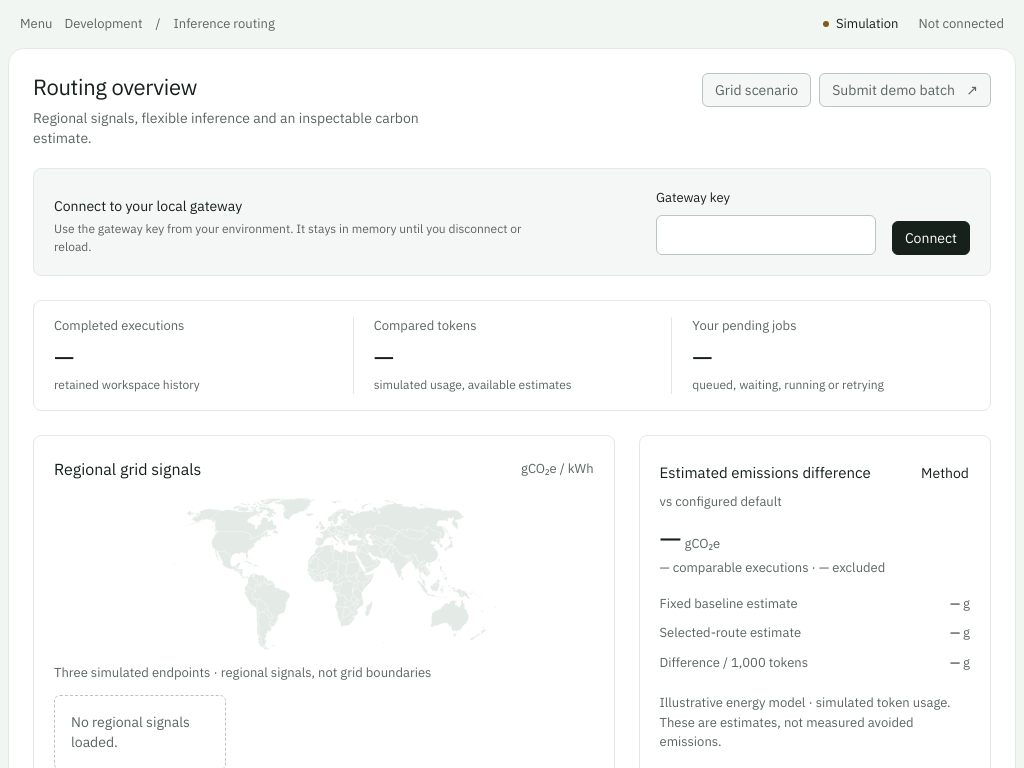
dashboard › uses the separate operator key for scenario changes
The width and height of the screenshot is (1024, 768).
Type "test-client-key" into the password field labelled "Gateway key".
click(766, 235); type("test-client-key")  # box 656,215 -> 876,255
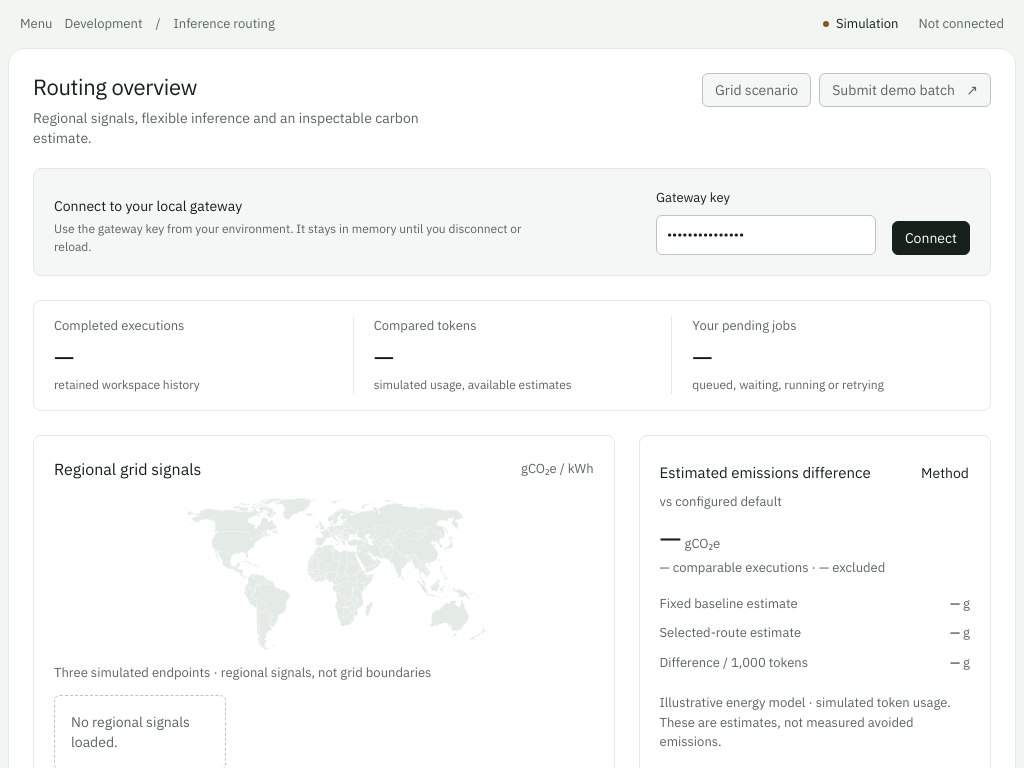
Click the button "Connect".
click(931, 238)  # box 892,221 -> 970,255
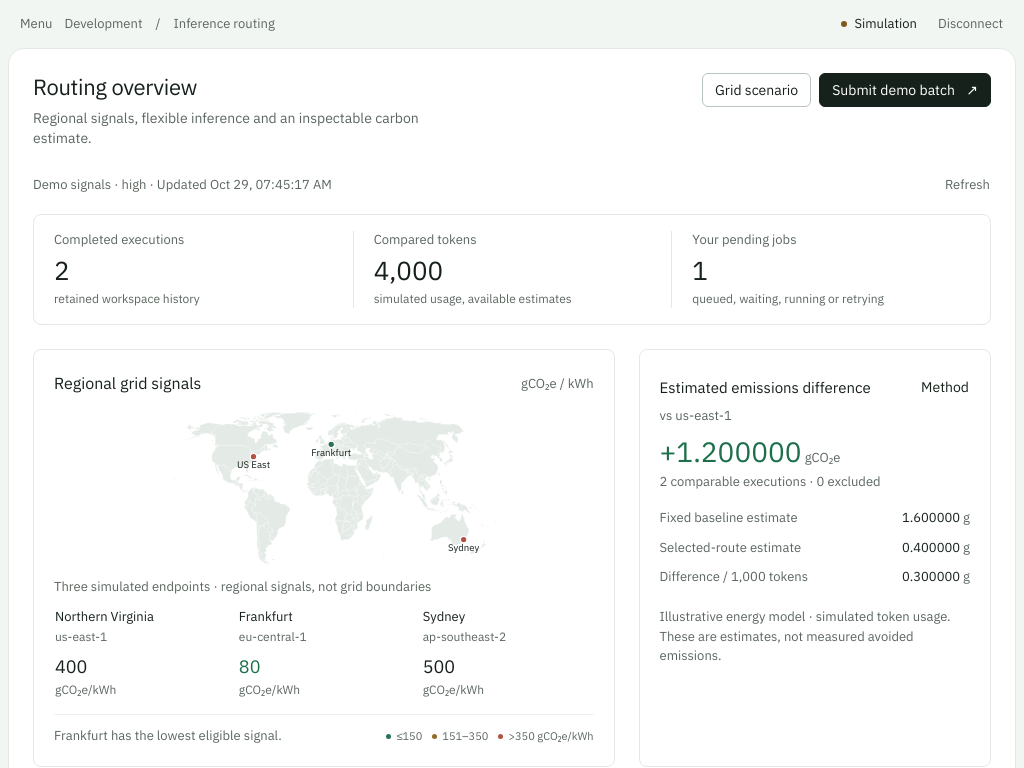
Check: the button "Disconnect" is shown, box 937,7 -> 1004,41
Check: the text "+1.200000" is shown, box 660,433 -> 802,470
Click the button "Grid scenario".
click(757, 90)  # box 702,73 -> 811,107
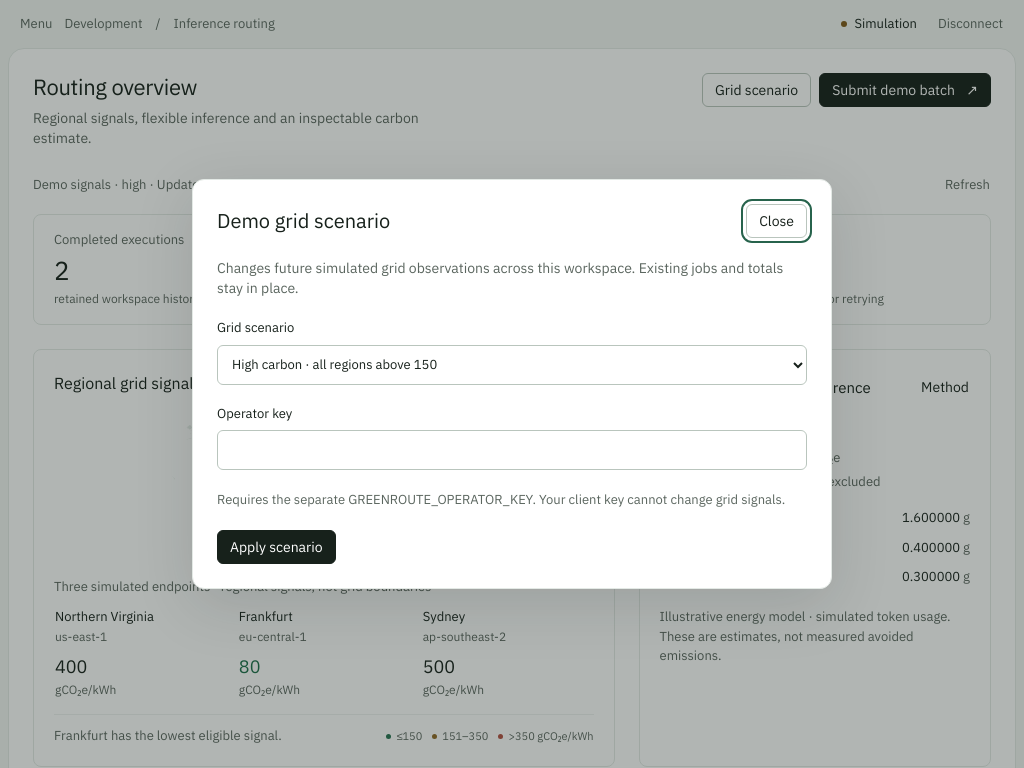
Type "operator-only-key" into the password field labelled "Operator key".
click(512, 450); type("operator-only-key")  # box 217,430 -> 807,470
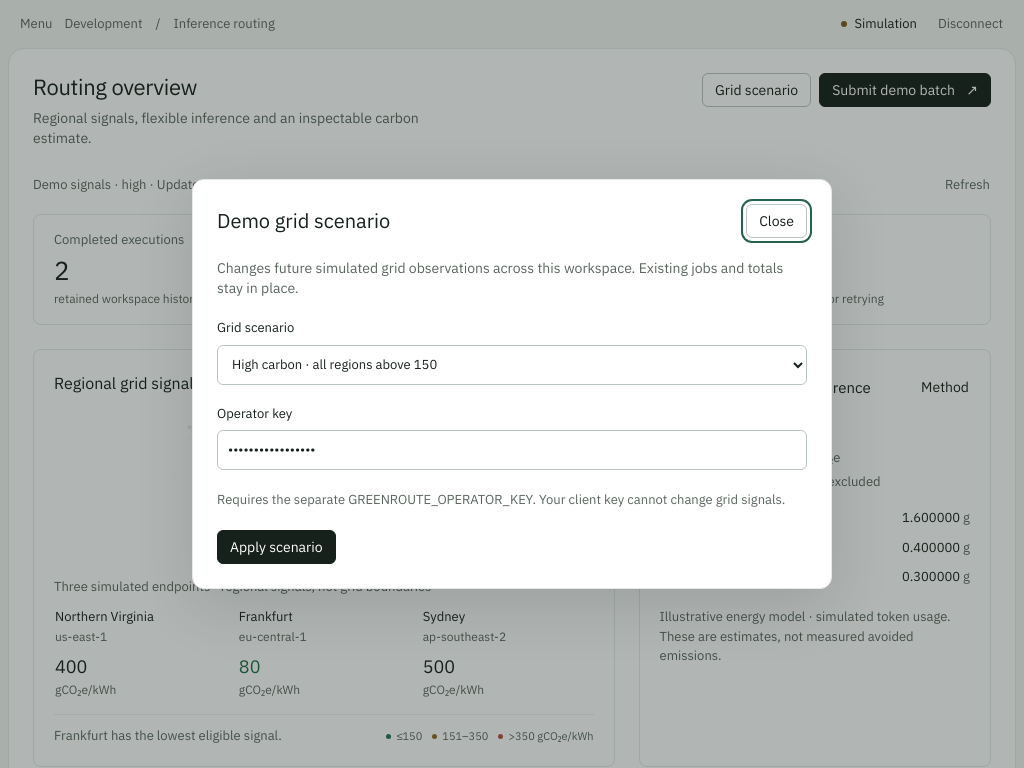
Select "Clean Frankfurt · 80 gCO₂e/kWh" in the dropdown labelled "Grid scenario" at [512, 364], box 217,344 -> 807,384
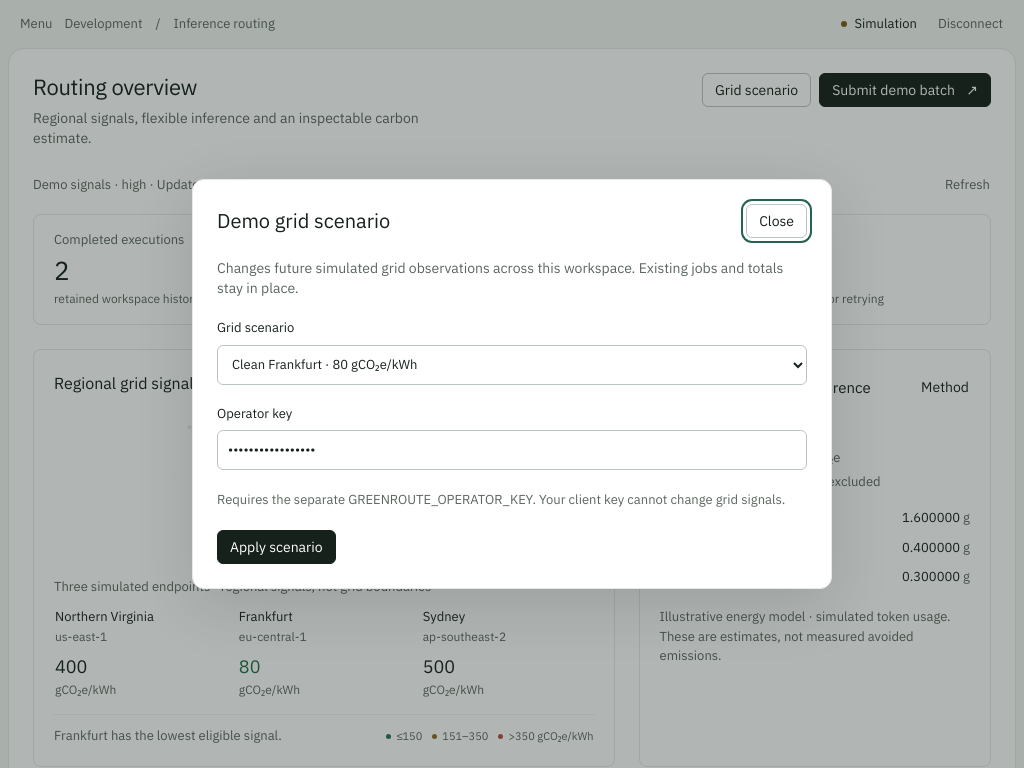
Click the button "Apply scenario".
click(276, 547)  # box 217,530 -> 336,564
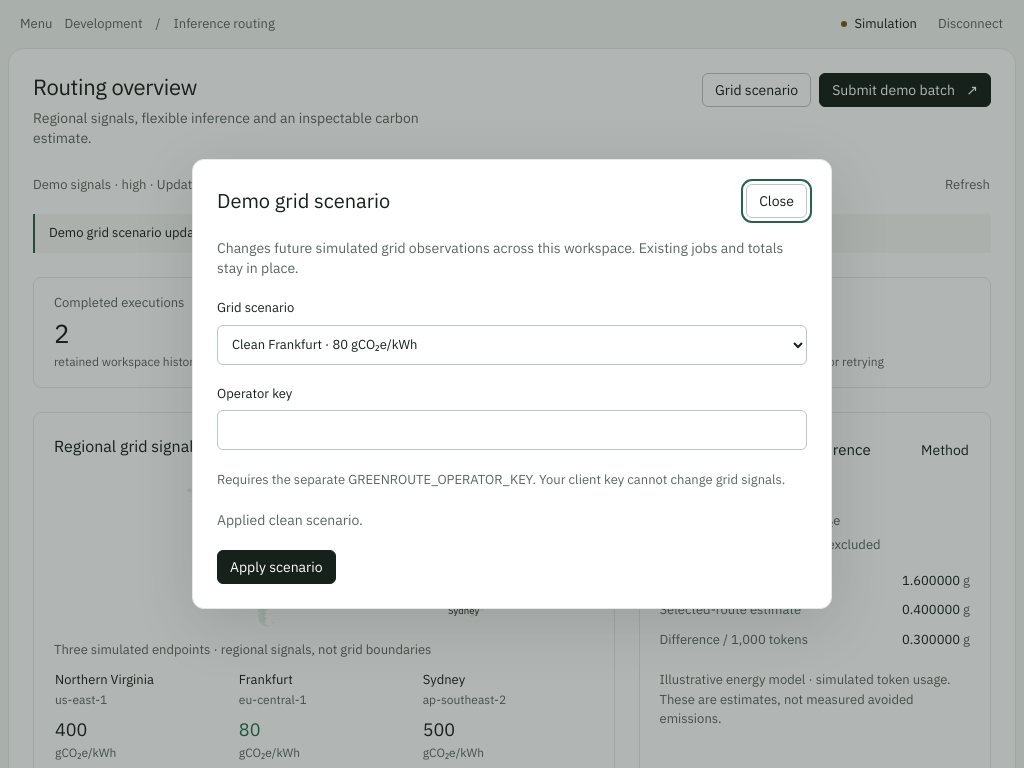
Check: the text "Demo grid scenario updated." is shown, box 33,214 -> 991,253
Check: the password field labelled "Operator key" is empty, box 217,410 -> 807,450
